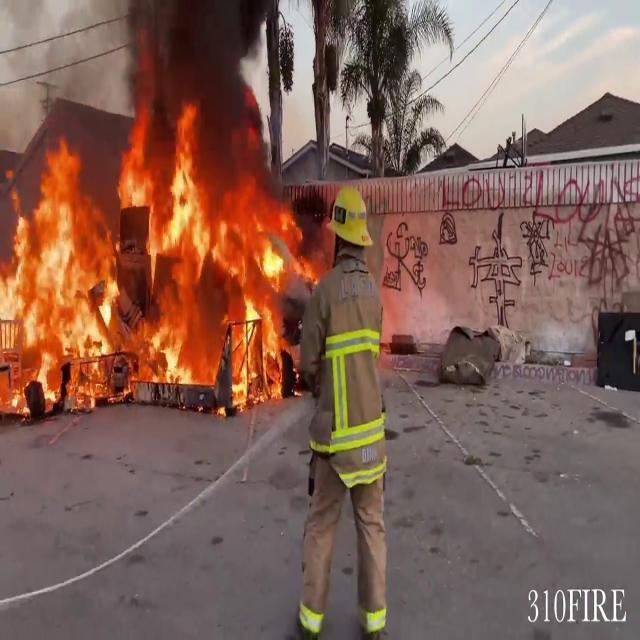Fire: (0, 96, 308, 418)
